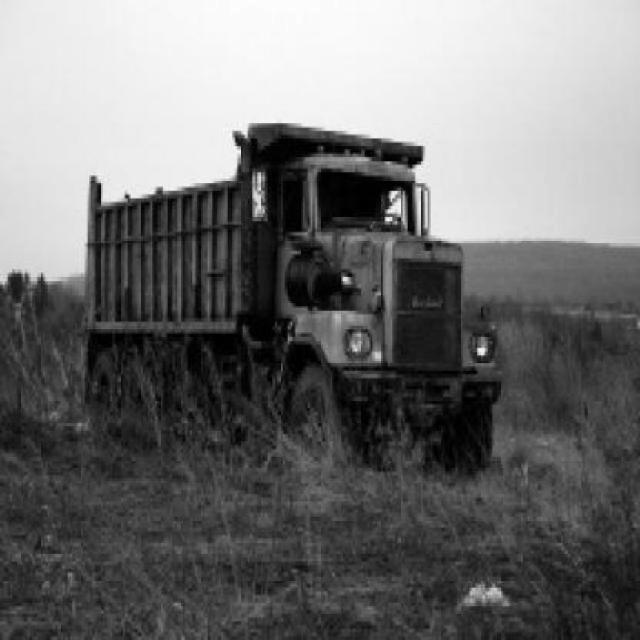Box Truck: (85, 125, 504, 476)
